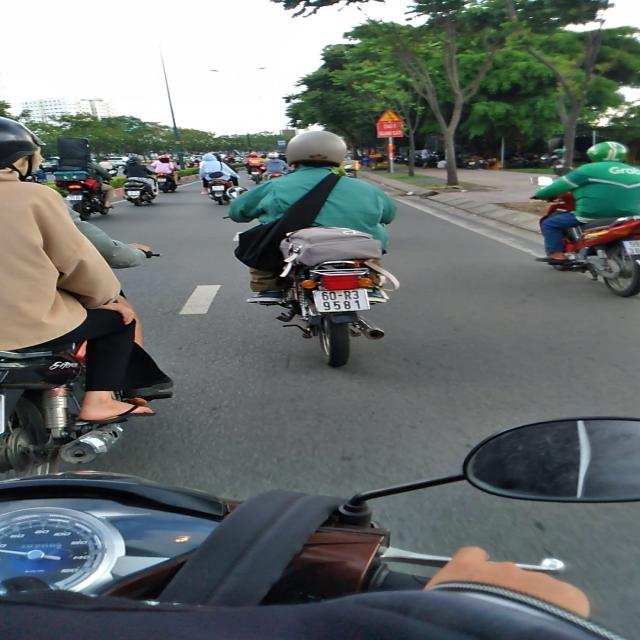Nguy hiem: (376, 109, 402, 122)
